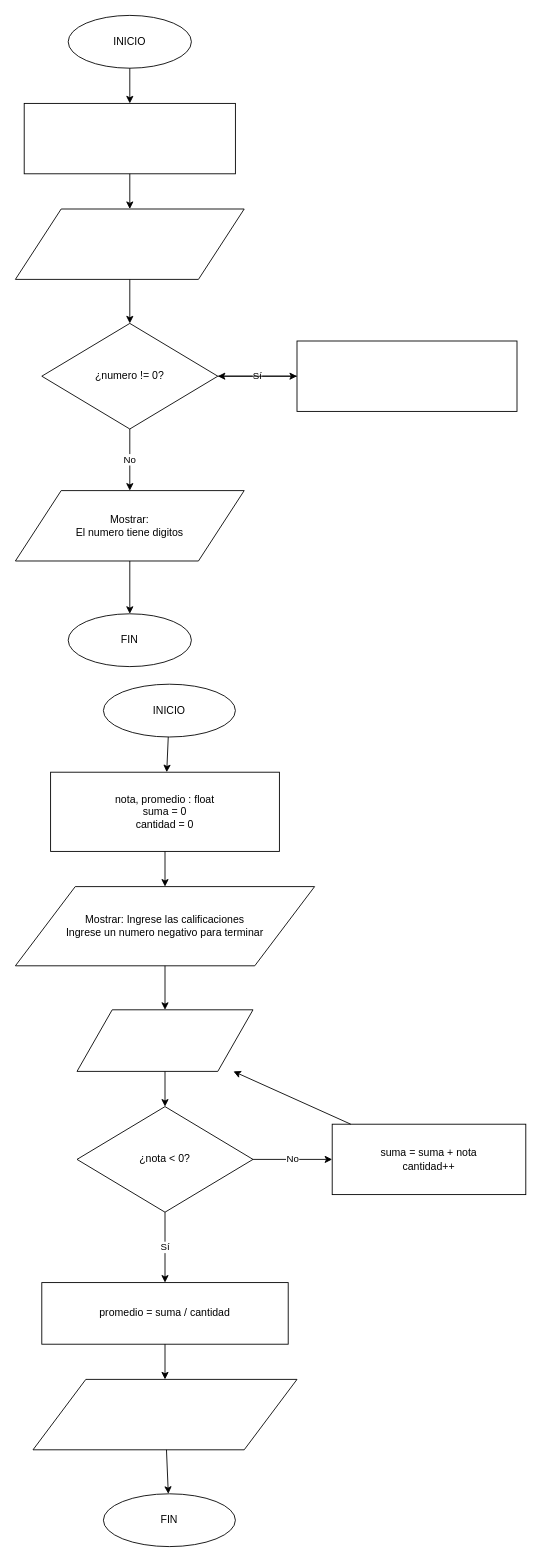
Some shapes in this 541 by 1562 pixel diagram are drawn without their labels. Each missing label, with the centre of its shape:
"Leer: nota" goes at (164,1040).
"Mostrar: Ingrese un numero Leer: numero" goes at (129,243).
"Mostrar: Promedio = promedio" goes at (164,1414).
"numero = numero / 10 digitos = digitos + 1" goes at (406,375).
"numero, digitos : int digitos = 0" goes at (129,138).
